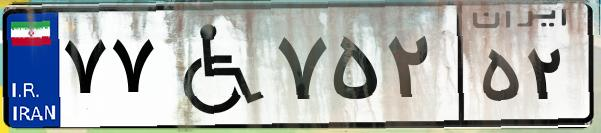2: (385, 28, 445, 110), (525, 38, 570, 115)
5: (330, 28, 385, 110), (475, 38, 525, 113)
7: (270, 28, 330, 110), (57, 26, 110, 100), (110, 28, 158, 98)
ژ (معلولین و جانبازان): (158, 12, 270, 120)
